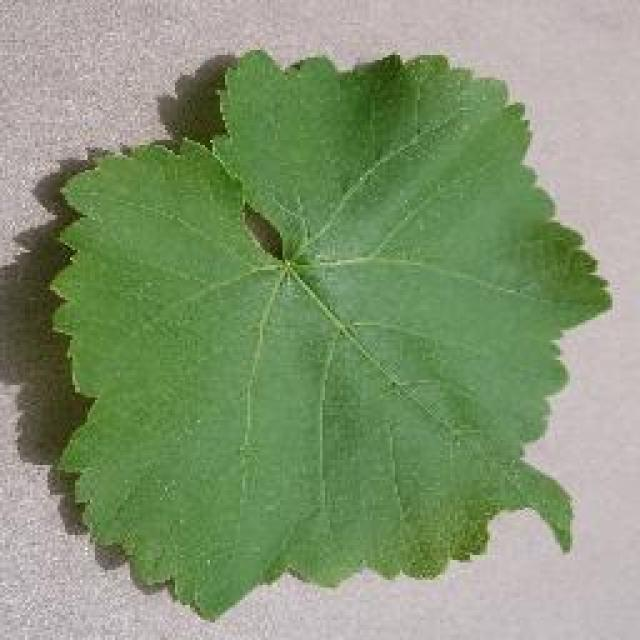Grape___healthy: (52, 50, 608, 615)
